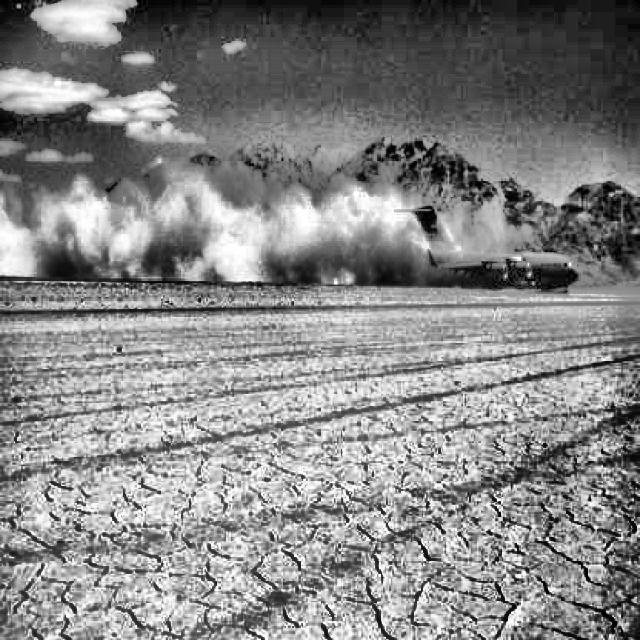C17: (393, 203, 579, 294)
